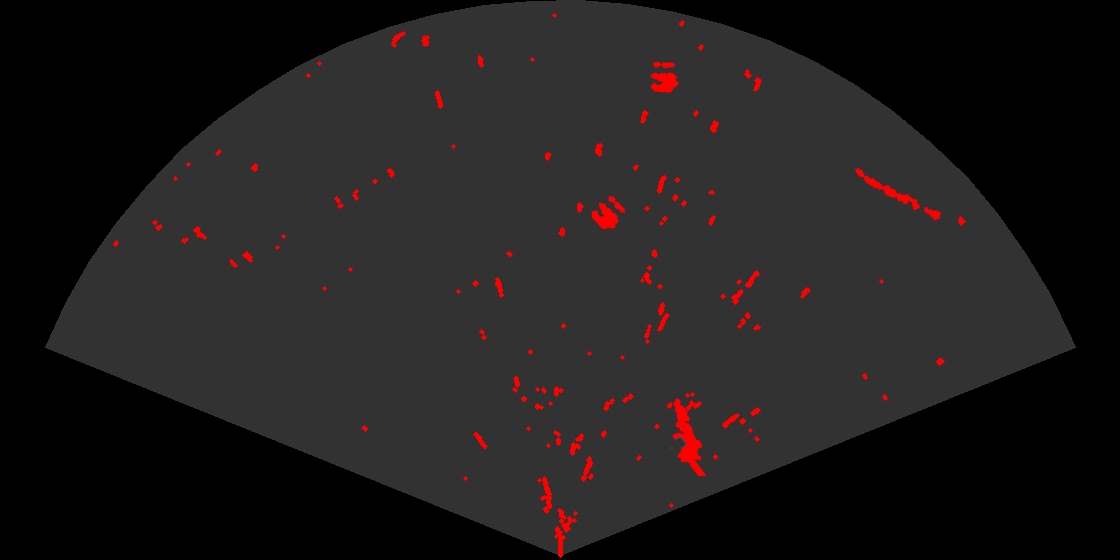ball: (590, 194, 627, 231), (648, 60, 680, 94)
chain: (853, 166, 943, 222)
frogman: (669, 397, 708, 476)
